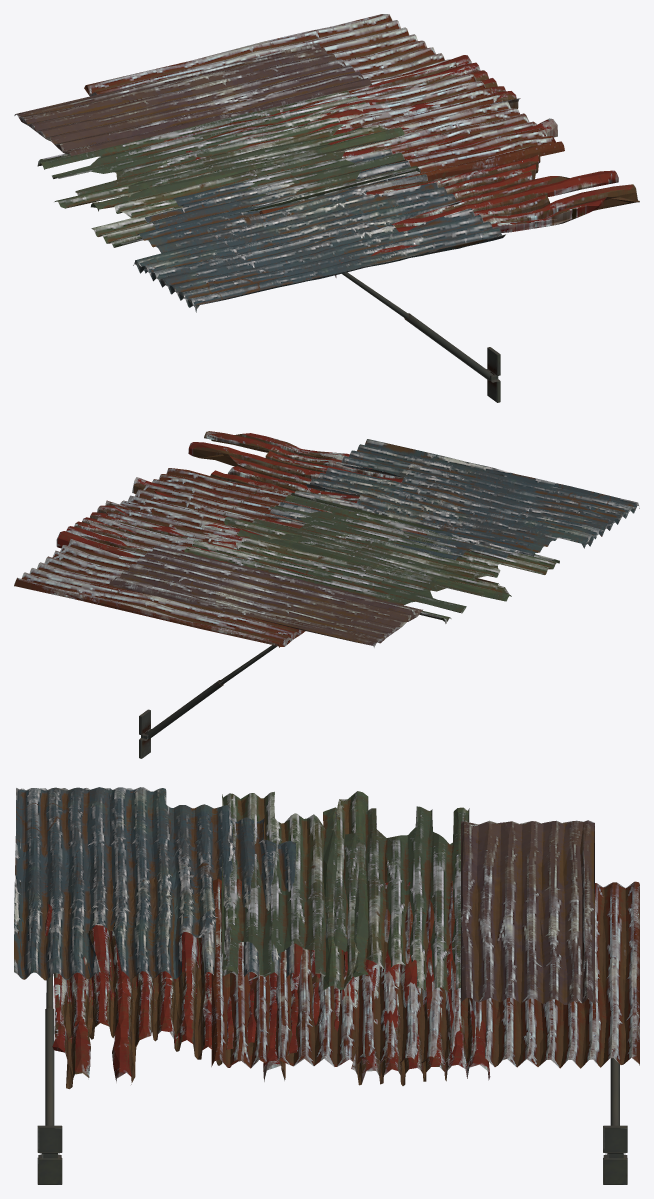
Rendered from SM_Window_Corrugated_Metal_Roof.fbx.
The picture shows the model from 3 angles, top to bottom: view 1: azimuth 30°, elevation 25°; view 2: azimuth 150°, elevation 25°; view 3: azimuth 270°, elevation 25°; orthographic projection. The views are drawn at different scales.
Visible parts, largest first — view 1: SM_Window_Corrugated_Metal_Roof_LOD0; view 2: SM_Window_Corrugated_Metal_Roof_LOD0; view 3: SM_Window_Corrugated_Metal_Roof_LOD0.
Part boxes in pixels (<box>): SM_Window_Corrugated_Metal_Roof_LOD0: <box>14,14,639,402</box>; SM_Window_Corrugated_Metal_Roof_LOD0: <box>14,431,639,758</box>; SM_Window_Corrugated_Metal_Roof_LOD0: <box>14,787,639,1184</box>.
Size of the model in its own units: 297 by 288 by 110.
1 material, 1 textured.
